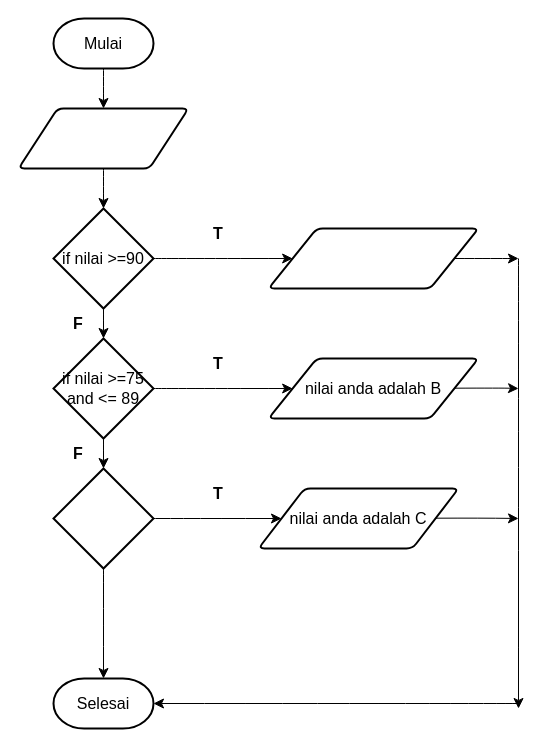
The diagram is 540 pixels wide and 746 high, and some of its shapes have lost their labels. Each missing label, with the centre of its shape:
"if nilai < 75" goes at point (103, 518).
"Input Nilai" goes at point (103, 138).
"nilai anda adalah A" goes at point (373, 258).
